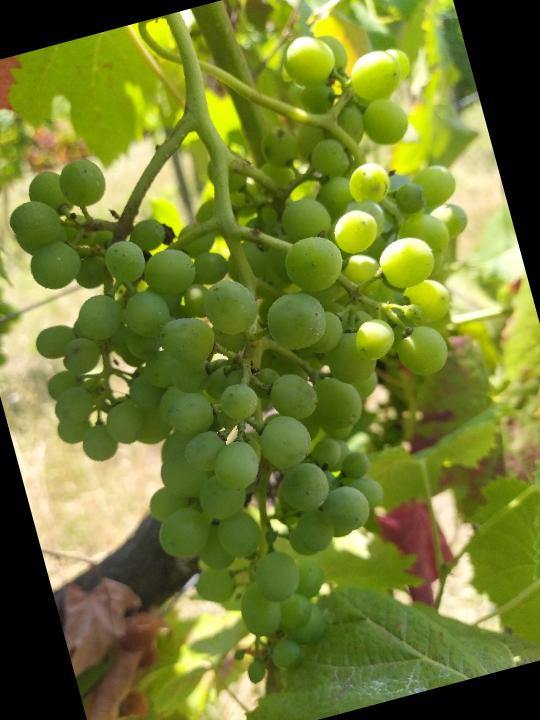grape: (0, 5, 540, 720)
